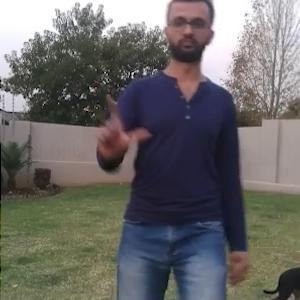land_hand: (87, 94, 153, 166)
